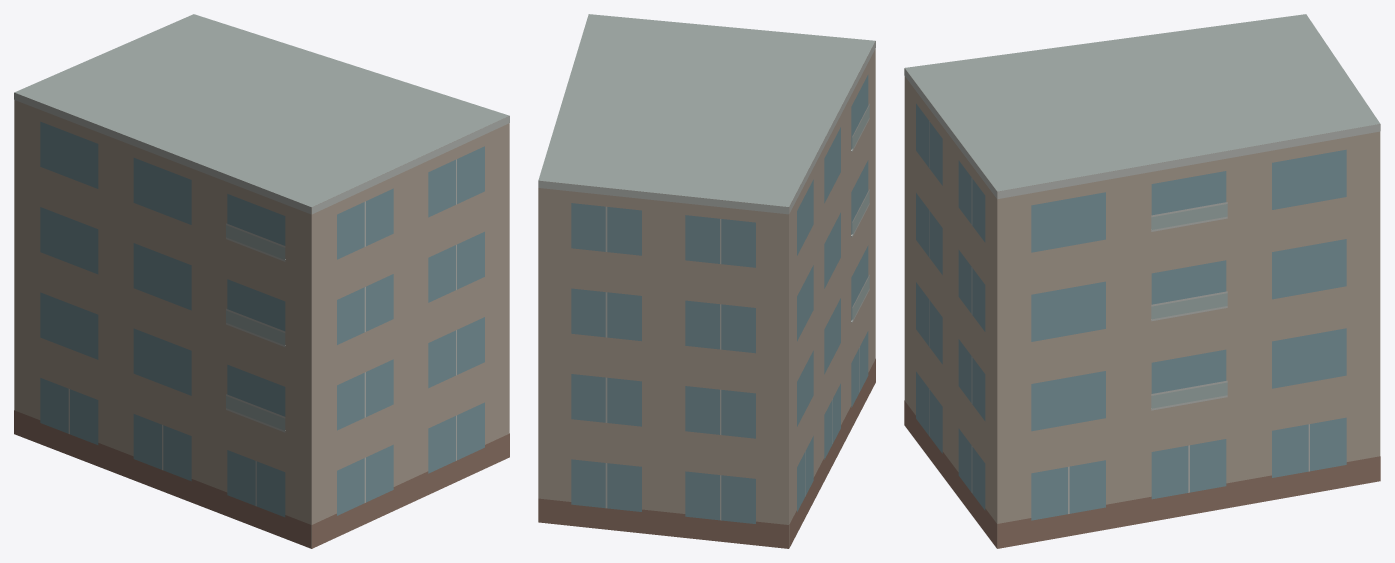
Rendered from survey-upis-33036147.glb.
3 renders of one model, left to right at view 1: azimuth 30°, elevation 25°; view 2: azimuth 150°, elevation 25°; view 3: azimuth 270°, elevation 25°, orthographic. The views are drawn at different scales.
Parts seen in each view (by area): view 1: survey-upis-33036147.tmp; view 2: survey-upis-33036147.tmp; view 3: survey-upis-33036147.tmp.
Part boxes in pixels (left/top/right/bottom): survey-upis-33036147.tmp: left=14, top=14, right=509, bottom=548; survey-upis-33036147.tmp: left=538, top=14, right=875, bottom=548; survey-upis-33036147.tmp: left=904, top=14, right=1380, bottom=548.
Bounding box in the file's own units: 12.16 × 11.4 × 13.78.
